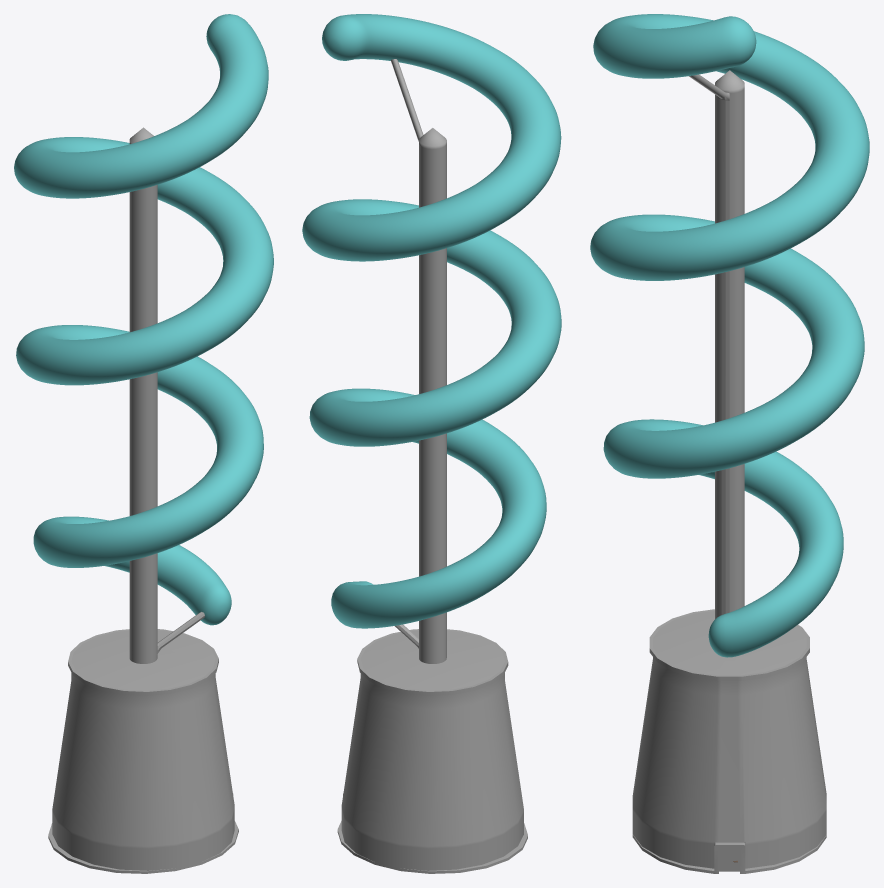
File: SM_lighthouse.fbx
3 views of the same model, side by side, from view 1: azimuth 30°, elevation 25°; view 2: azimuth 150°, elevation 25°; view 3: azimuth 270°, elevation 25° (orthographic). The views are drawn at different scales.
Visible parts, largest first — view 1: lighthouse; view 2: lighthouse; view 3: lighthouse.
Boxes of the visible parts, x1=… form: lighthouse: x1=14, y1=14, x2=273, y2=873; lighthouse: x1=302, y1=14, x2=561, y2=873; lighthouse: x1=590, y1=14, x2=869, y2=873.
Size of the model in its own units: 18.51 by 62.72 by 18.55.
